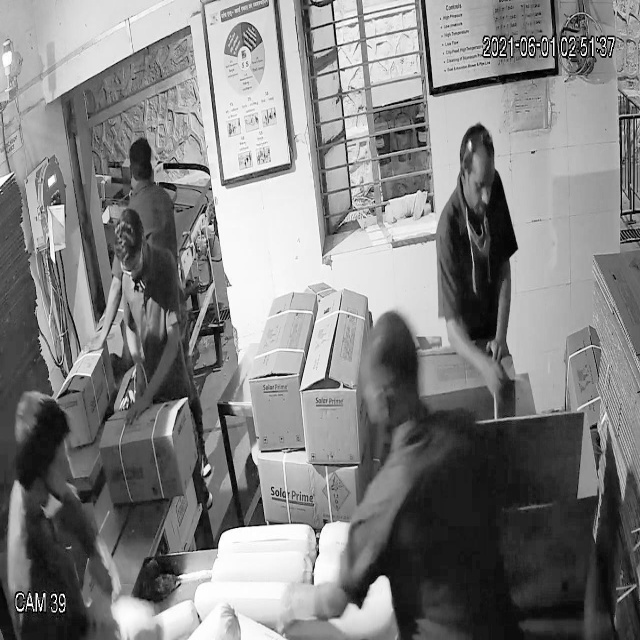Gafas: (114, 246, 149, 283)
Sin_gafas: (459, 161, 502, 205)
